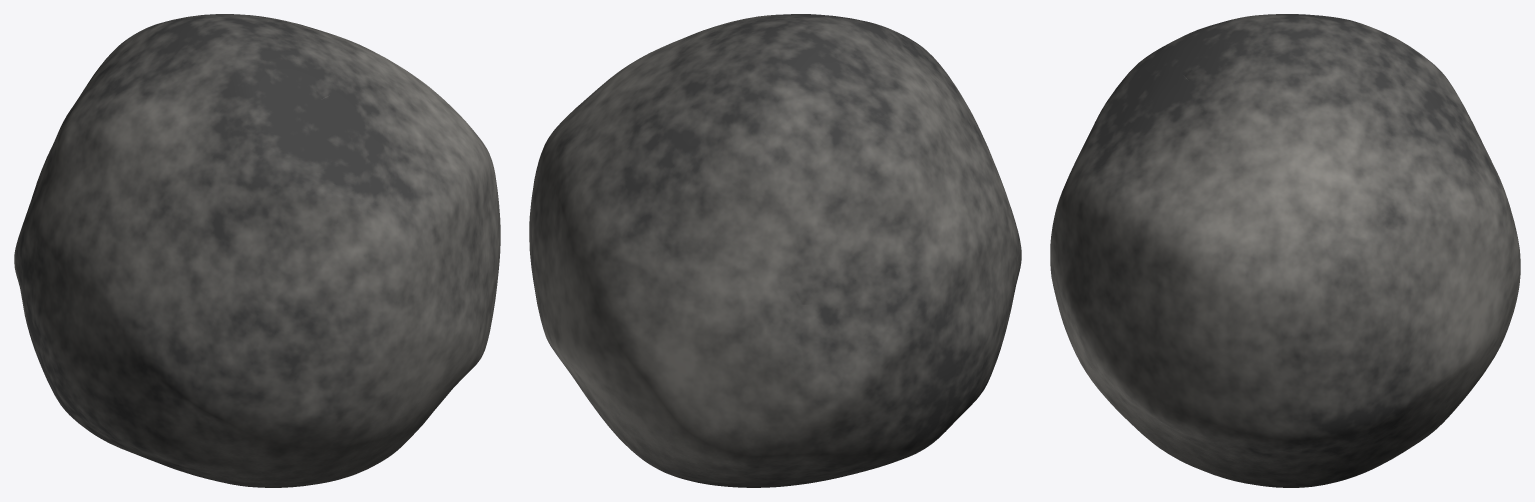
File: granite-boulder-v002.glb
The picture shows the model from 3 angles, left to right: view 1: azimuth 30°, elevation 25°; view 2: azimuth 150°, elevation 25°; view 3: azimuth 270°, elevation 25°; orthographic projection. The views are drawn at different scales.
Parts seen in each view (by area): view 1: granite-boulder; view 2: granite-boulder; view 3: granite-boulder.
Part boxes in pixels (x1=…): granite-boulder: x1=14, y1=14, x2=500, y2=487; granite-boulder: x1=529, y1=14, x2=1021, y2=487; granite-boulder: x1=1050, y1=14, x2=1520, y2=487.
Bounding box in the file's own units: 0.5983 × 0.6001 × 0.5974.
Materials: 1 (1 with a texture image).
